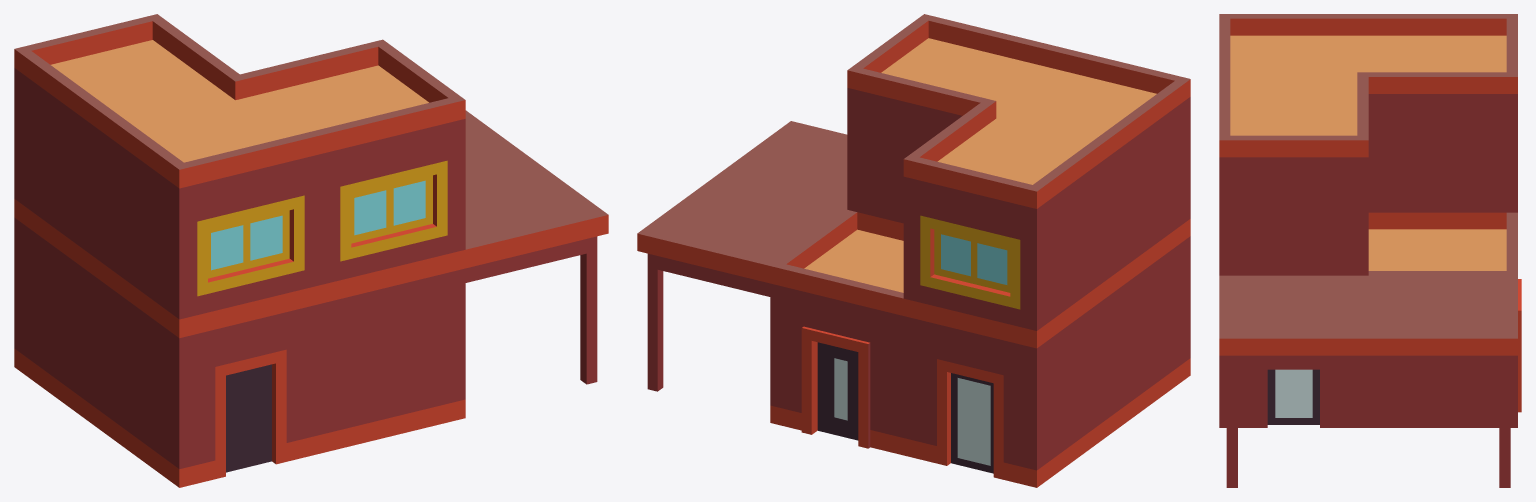
The model's file is LumberLevel2.fbx.
The picture shows the model from 3 angles, left to right: view 1: azimuth 30°, elevation 25°; view 2: azimuth 150°, elevation 25°; view 3: azimuth 270°, elevation 25°; orthographic projection. The views are drawn at different scales.
Visible parts, largest first — view 1: LumberLevel2; view 2: LumberLevel2; view 3: LumberLevel2.
Boxes of the visible parts, box(x1,y1,x2,y2) form: LumberLevel2: box(14, 14, 608, 487); LumberLevel2: box(637, 14, 1190, 487); LumberLevel2: box(1219, 14, 1521, 487).
Bounding box in the file's own units: 120 × 85 × 81.
Materials: 1 (1 with a texture image).
